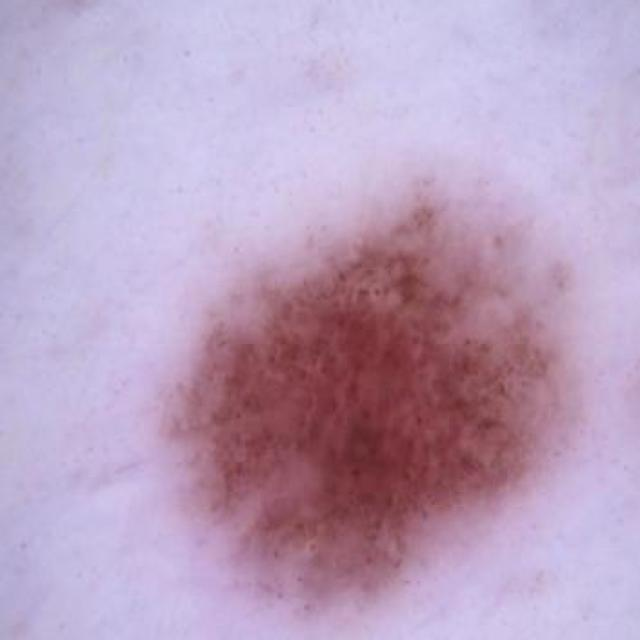NV: (136, 185, 602, 640)
